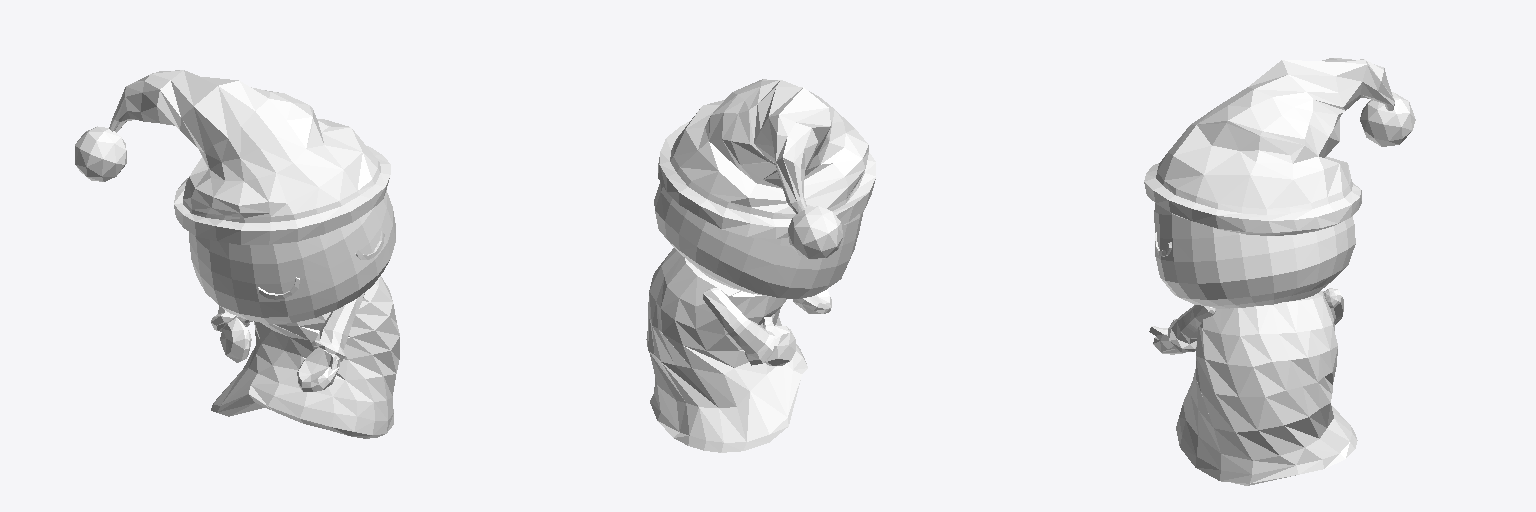
The model's file is playerECS_000011.obj.
The picture shows the model from 3 angles: view 1: azimuth 30°, elevation 25°; view 2: azimuth 150°, elevation 25°; view 3: azimuth 270°, elevation 25°; orthographic projection.
Parts seen in each view (by area): view 1: Player_Mesh.001; view 2: Player_Mesh.001; view 3: Player_Mesh.001.
Part boxes in pixels (x1,y1,x2,y2): Player_Mesh.001: (75, 70, 399, 438); Player_Mesh.001: (646, 79, 875, 452); Player_Mesh.001: (1144, 58, 1415, 485).
Bounding box in the file's own units: 1.31 × 1.79 × 1.23.